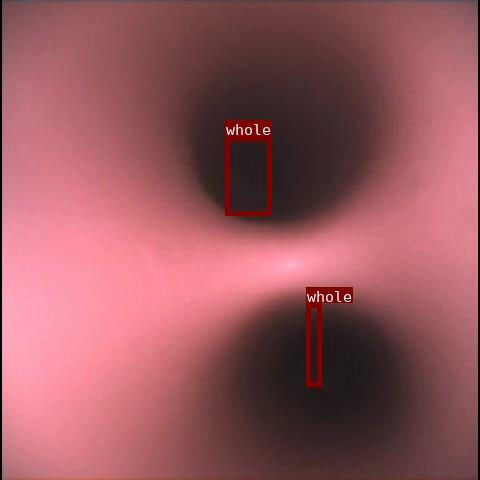whole: (225, 136, 271, 215), (306, 303, 321, 386)
